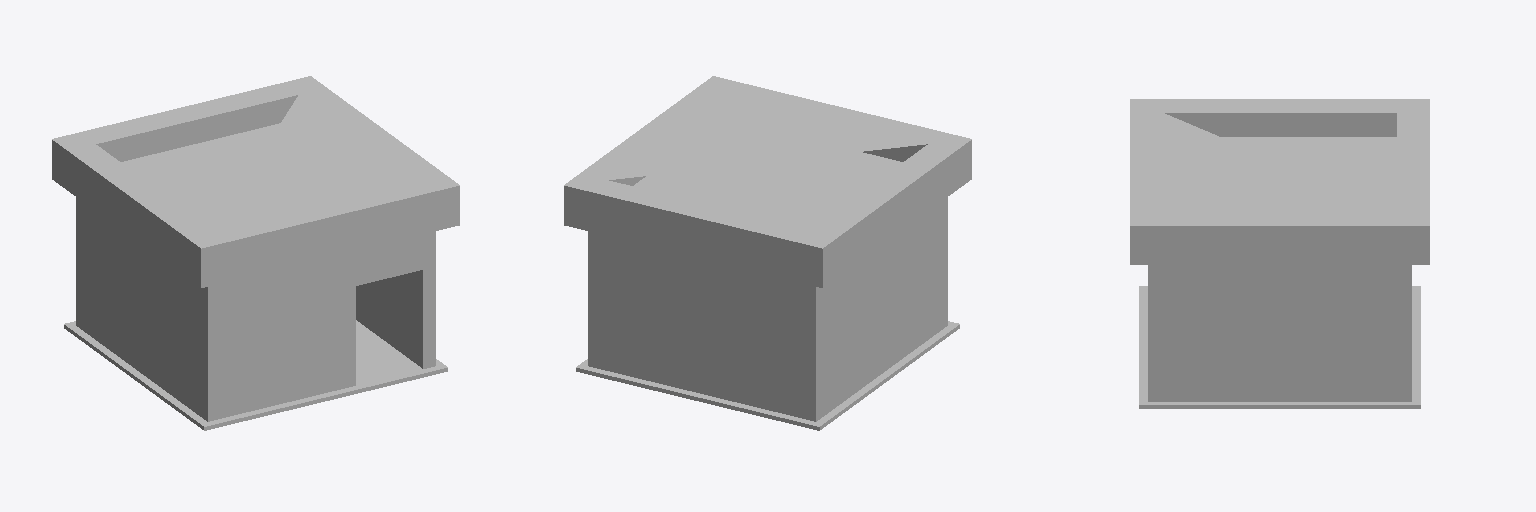
The model's file is GuardHouse.obj.
3 views of the same model, side by side, from view 1: azimuth 30°, elevation 25°; view 2: azimuth 150°, elevation 25°; view 3: azimuth 270°, elevation 25° (orthographic).
Parts seen in each view (by area): view 1: pCube1; view 2: pCube1; view 3: pCube1.
Boxes of the visible parts, box(x1,y1,x2,y2) form: pCube1: box(52, 76, 459, 430); pCube1: box(564, 76, 971, 430); pCube1: box(1130, 99, 1429, 408).
Bounding box in the file's own units: 34 × 23.5 × 34.